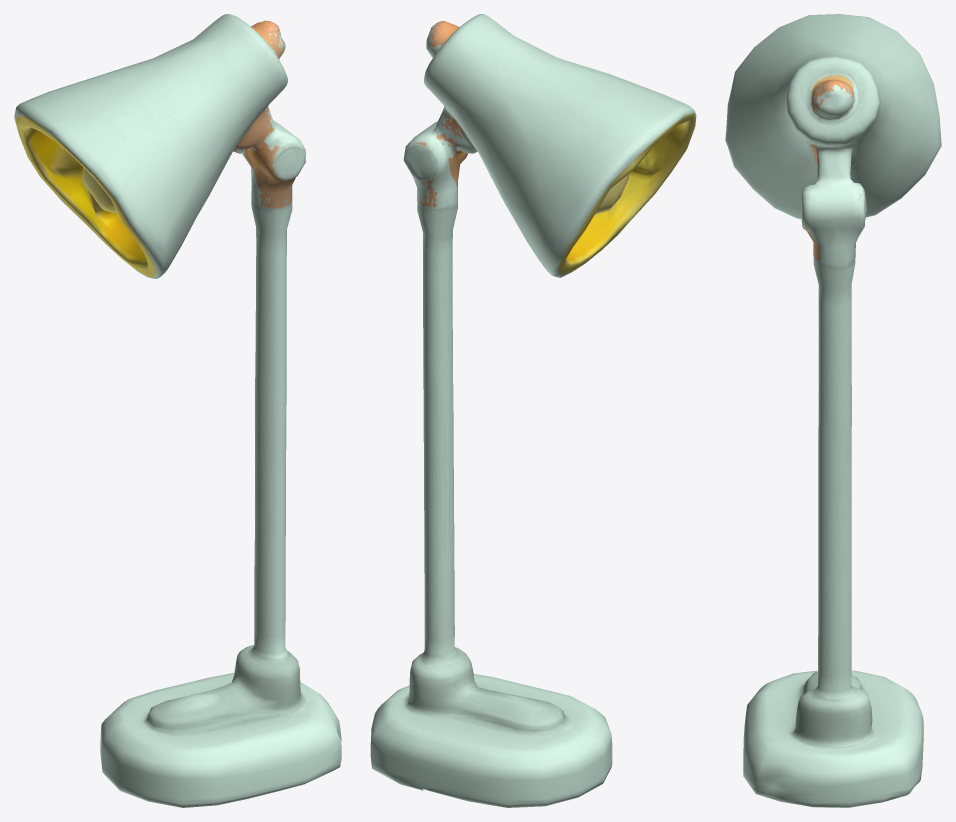
The model's file is lamp_desk_mint_c1.glb.
3 views of the same model, side by side, from view 1: azimuth 30°, elevation 25°; view 2: azimuth 150°, elevation 25°; view 3: azimuth 270°, elevation 25° (orthographic). The views are drawn at different scales.
Bounding box in the file's own units: 0.8176 × 2 × 0.5519.
1 material, 1 textured.
